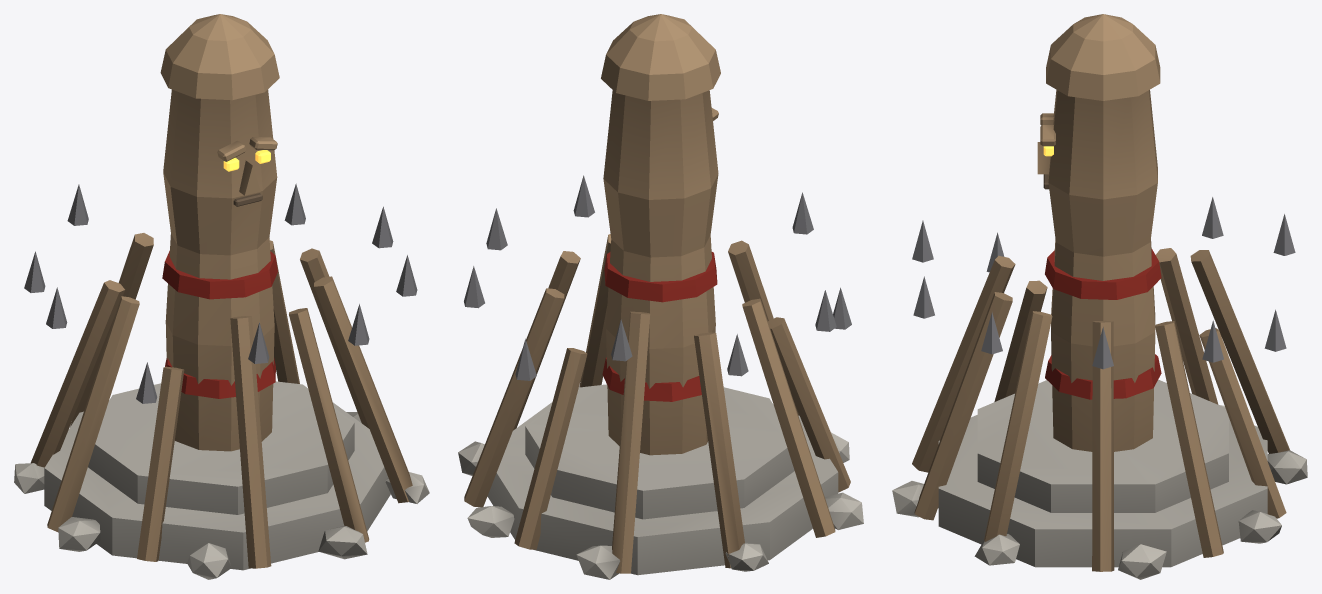
File: idol_shipo.glb
The picture shows the model from 3 angles, left to right: view 1: azimuth 30°, elevation 25°; view 2: azimuth 150°, elevation 25°; view 3: azimuth 270°, elevation 25°; orthographic projection.
Parts seen in each view (by area): view 1: idol_shipo; view 2: idol_shipo; view 3: idol_shipo.
Part boxes in pixels (left/top/right/bottom): idol_shipo: left=14, top=14, right=429, bottom=579; idol_shipo: left=458, top=14, right=863, bottom=579; idol_shipo: left=892, top=14, right=1307, bottom=579.
Size of the model in its own units: 0.795 by 1.03 by 0.7942.
